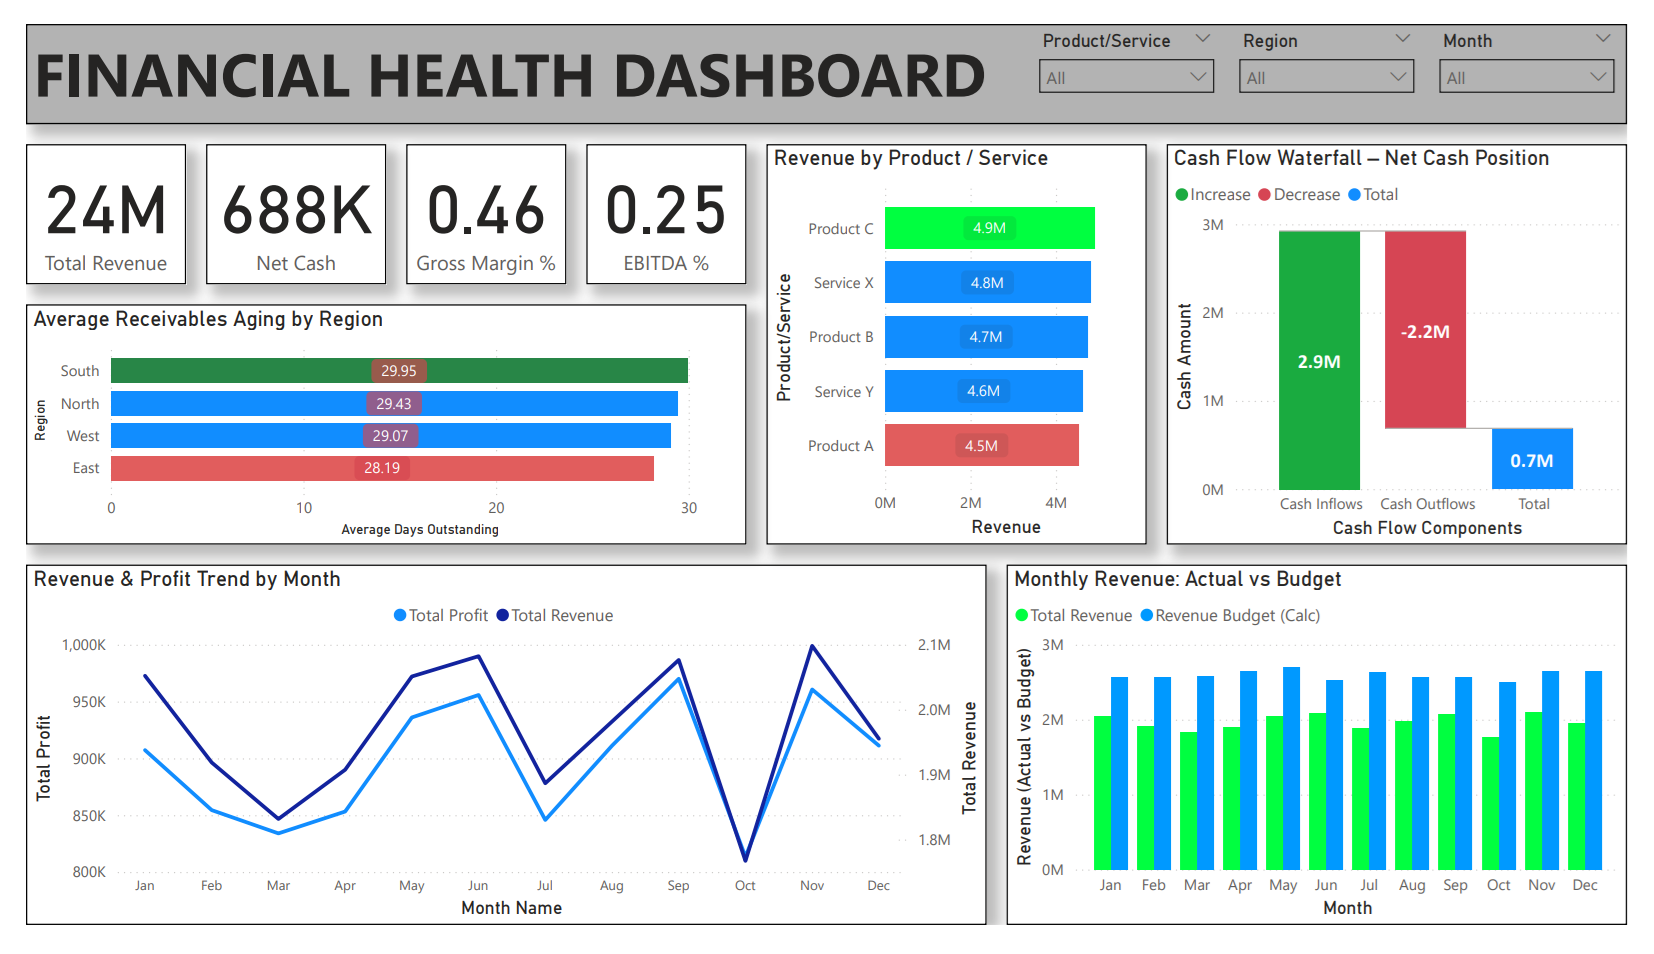

What the dashboard file says about the page in this screenshot:
{"tool":"powerbi","page":{"name":"Page 1","canvas":[1280,720],"ordinal":0},"visuals":[{"type":"textbox","box":[0,0,1280,80],"z":0},{"type":"card","fields":{"Values":["Table1.Total Revenue"]},"box":[0,96,128,112],"z":1000},{"type":"card","fields":{"Values":["Table1.Gross Margin %"]},"box":[304,96,128,112],"z":2000},{"type":"card","fields":{"Values":["Table1.EBITDA %"]},"box":[448,96,128,112],"z":3000},{"type":"card","fields":{"Values":["Table1.Net Cash"]},"box":[144,96,144,112],"z":4000},{"type":"slicer","fields":{"Values":["Table1.Month"]},"box":[1120,0,160,80],"z":5000},{"type":"slicer","fields":{"Values":["Table1.Region"]},"box":[960,0,160,80],"z":6000},{"type":"slicer","fields":{"Values":["Table1.Product/Service"]},"box":[800,0,160,80],"z":7000},{"type":"lineChart","title":"Revenue & Profit Trend by Month","fields":{"Category":["Table1.Month Name"],"Y":["Table1.Profit"],"Y2":["Table1.Total Revenue"]},"box":[0,432,768,288],"z":8000},{"type":"waterfallChart","title":"Cash Flow Waterfall – Net Cash Position","fields":{"Category":["Cash Flow Waterfall.Type"],"Y":["Sum(Cash Flow Waterfall.Amount)"]},"box":[912,96,368,320],"z":9000},{"type":"clusteredColumnChart","title":"Monthly Revenue: Actual vs Budget","fields":{"Category":["Table1.Month Name"],"Y":["Table1.Total Revenue","Table1.Revenue Budget (Calc)"]},"box":[784,432,496,288],"z":10000},{"type":"barChart","title":"Revenue by Product / Service","fields":{"Category":["Table1.Product/Service"],"Y":["Table1.Total Revenue"]},"box":[592,96,304,320],"z":11000},{"type":"barChart","title":"Average Receivables Aging by Region","fields":{"Category":["Table1.Region"],"Y":["Avg(Table1.Receivables Aging (Days))"]},"box":[0,224,576,192],"z":12000}]}

Visuals, with their boxes in screenshot pixels (x1, y1, x2, y2), scaled from the page's 1280x720 canvas onto the 1654x954 screenshot:
textbox: pyautogui.locateOnScreen(0, 0, 1653, 106)
card - Table1.Total Revenue: pyautogui.locateOnScreen(0, 127, 165, 276)
card - Table1.Gross Margin %: pyautogui.locateOnScreen(393, 127, 558, 276)
card - Table1.EBITDA %: pyautogui.locateOnScreen(579, 127, 744, 276)
card - Table1.Net Cash: pyautogui.locateOnScreen(186, 127, 372, 276)
slicer - Table1.Month: pyautogui.locateOnScreen(1447, 0, 1653, 106)
slicer - Table1.Region: pyautogui.locateOnScreen(1240, 0, 1447, 106)
slicer - Table1.Product/Service: pyautogui.locateOnScreen(1034, 0, 1240, 106)
"Revenue & Profit Trend by Month" lineChart: pyautogui.locateOnScreen(0, 572, 992, 953)
"Cash Flow Waterfall – Net Cash Position" waterfallChart: pyautogui.locateOnScreen(1178, 127, 1653, 551)
"Monthly Revenue: Actual vs Budget" clusteredColumnChart: pyautogui.locateOnScreen(1013, 572, 1653, 953)
"Revenue by Product / Service" barChart: pyautogui.locateOnScreen(765, 127, 1158, 551)
"Average Receivables Aging by Region" barChart: pyautogui.locateOnScreen(0, 297, 744, 551)
